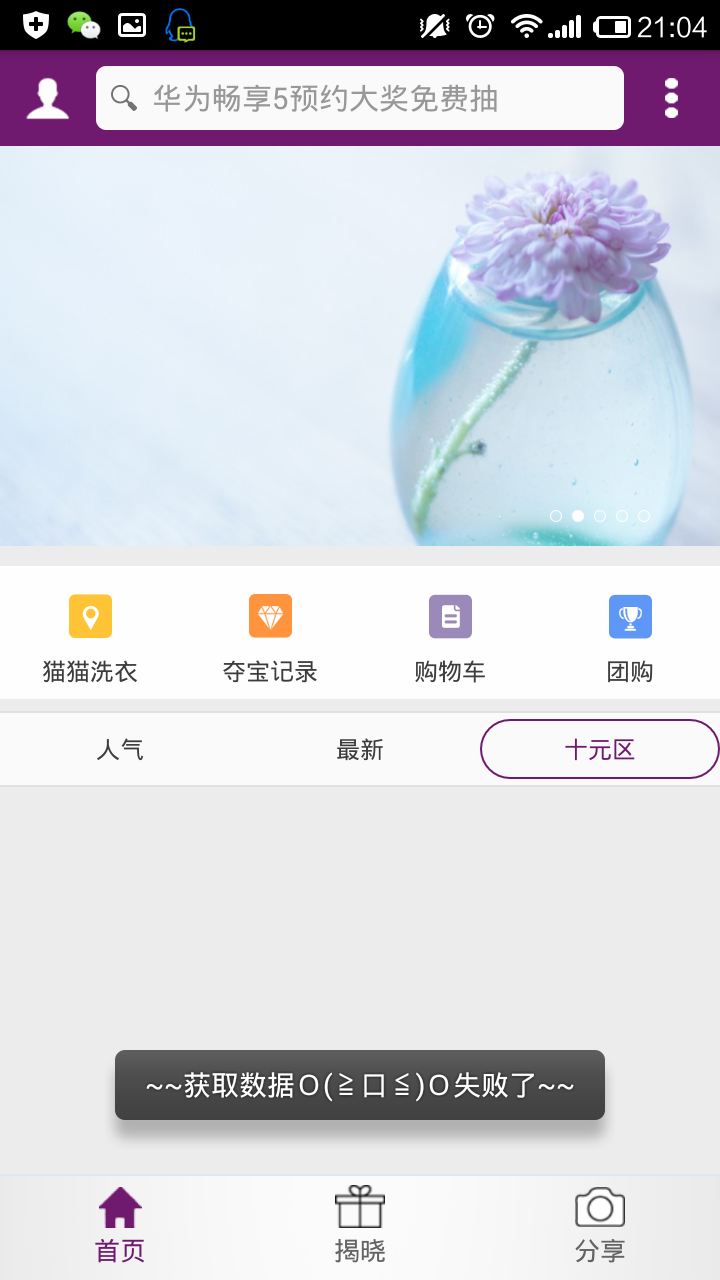alert: (104, 1042, 636, 1130)
nav: (18, 1176, 700, 1278), (8, 716, 720, 775)
textview: (83, 60, 644, 141)
